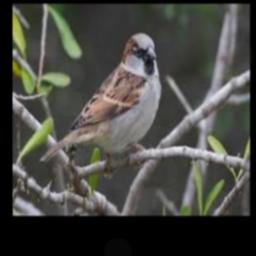Sparrow: (40, 32, 161, 163)
